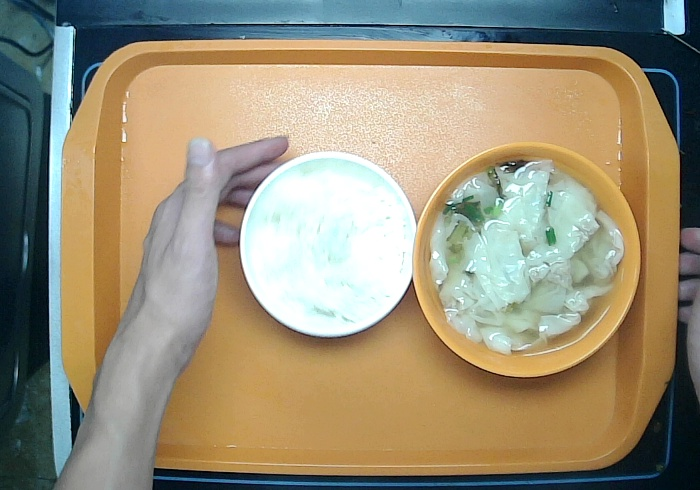NLDX-Fan_Wan: (236, 146, 417, 341)
NLDX-Hun_Tun_Wan: (410, 139, 641, 379)
